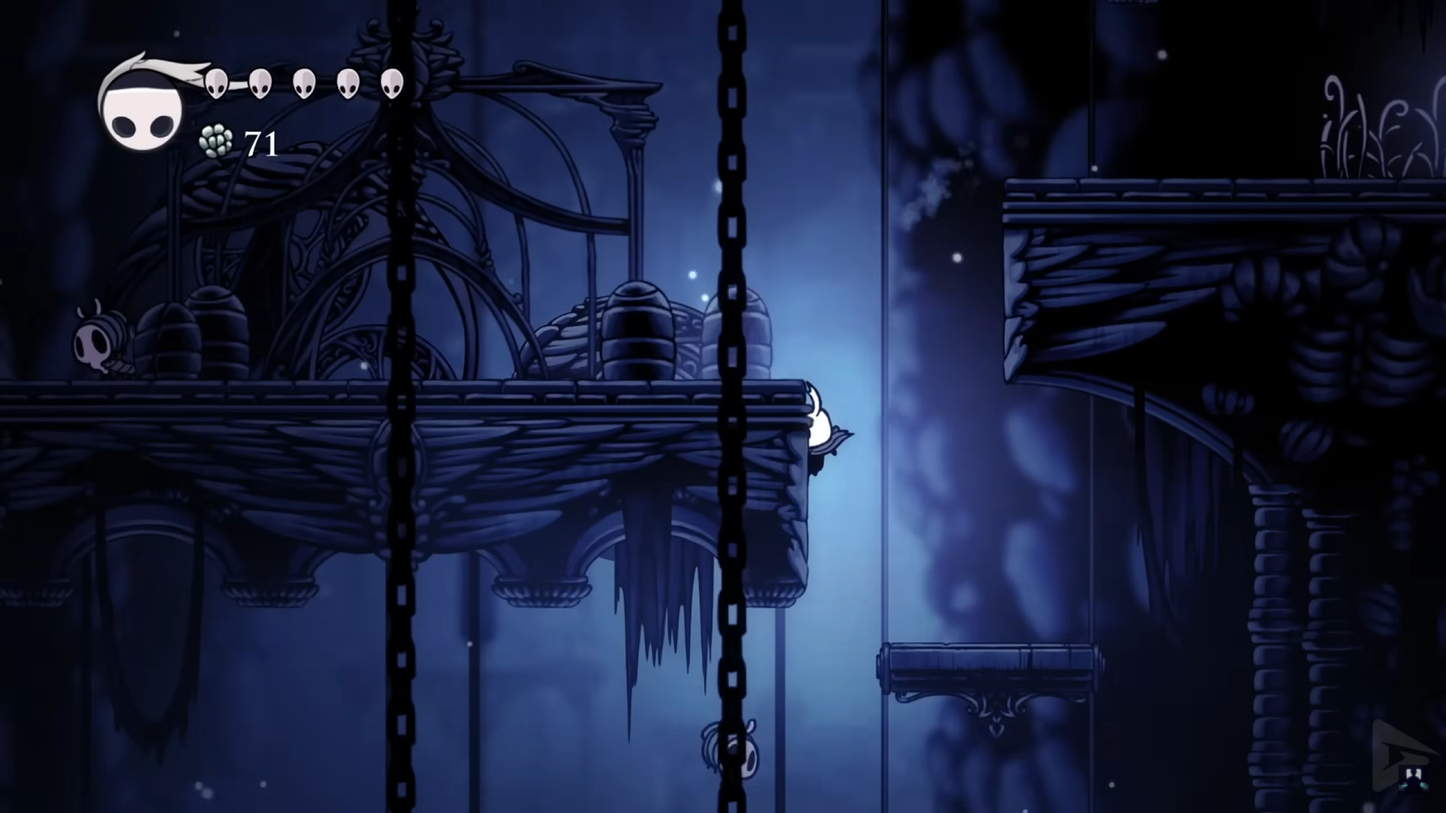HK: (800, 385, 859, 483)
